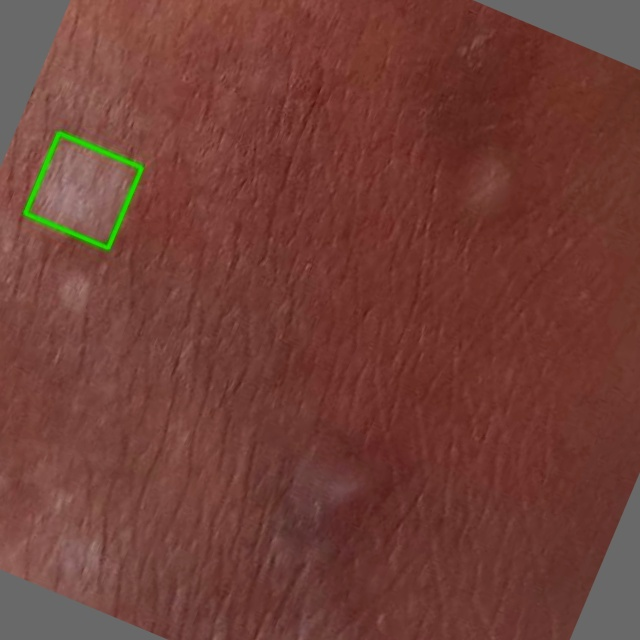Eczema: (25, 133, 141, 248)
